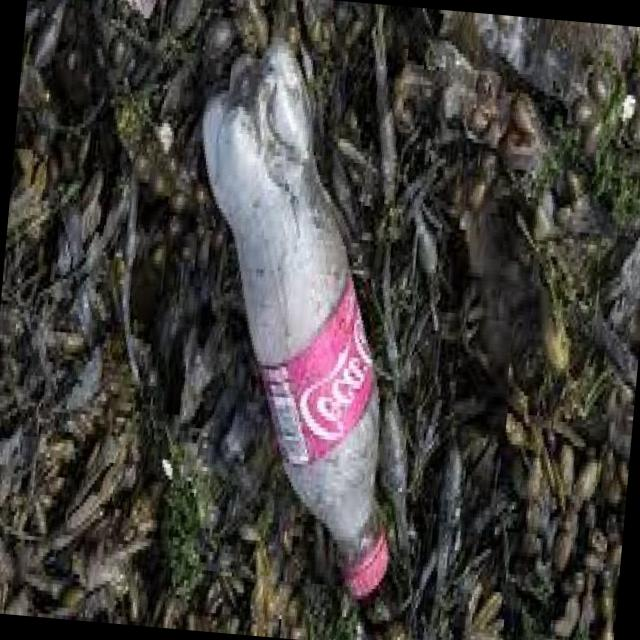plastic_bottle: (163, 31, 431, 598)
